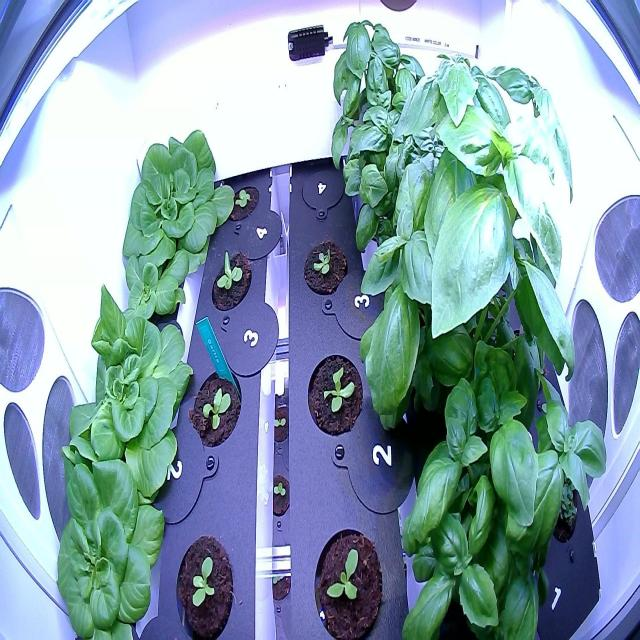empty_pod: (298, 156, 351, 225)
young: (58, 278, 192, 500), (48, 452, 172, 639), (115, 123, 238, 288), (301, 520, 389, 640), (172, 519, 242, 639), (120, 240, 197, 328), (300, 347, 366, 445), (187, 365, 246, 459), (296, 232, 353, 305), (206, 245, 254, 323), (222, 168, 263, 231)
